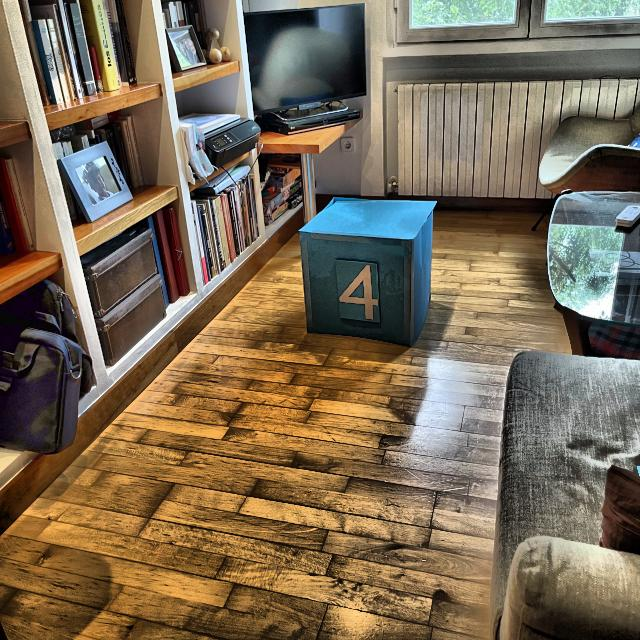blue box: (294, 193, 438, 346)
four: (337, 262, 384, 324)
